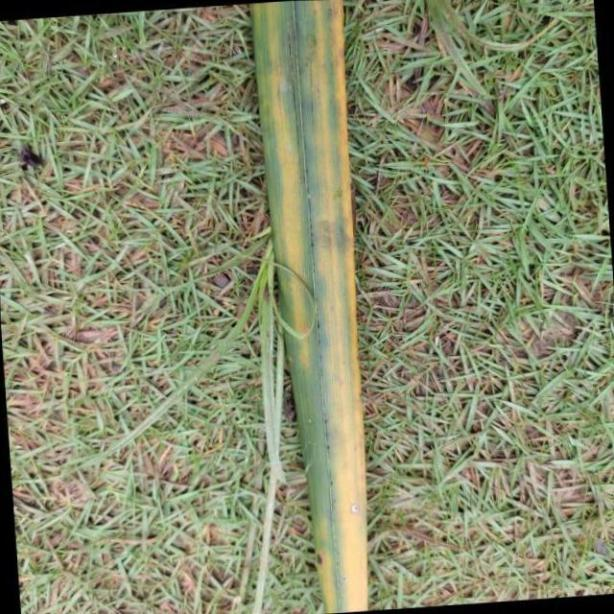Megnesium: (244, 0, 368, 614)
